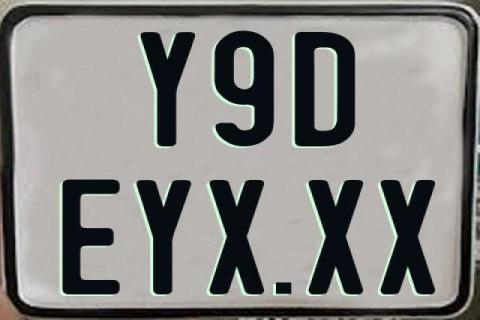0: (214, 28, 280, 147)
D: (294, 32, 360, 146)
E: (61, 178, 119, 294)
X: (308, 178, 368, 296), (379, 179, 435, 293), (207, 179, 261, 297)
Y: (134, 178, 193, 294), (140, 31, 196, 147)
